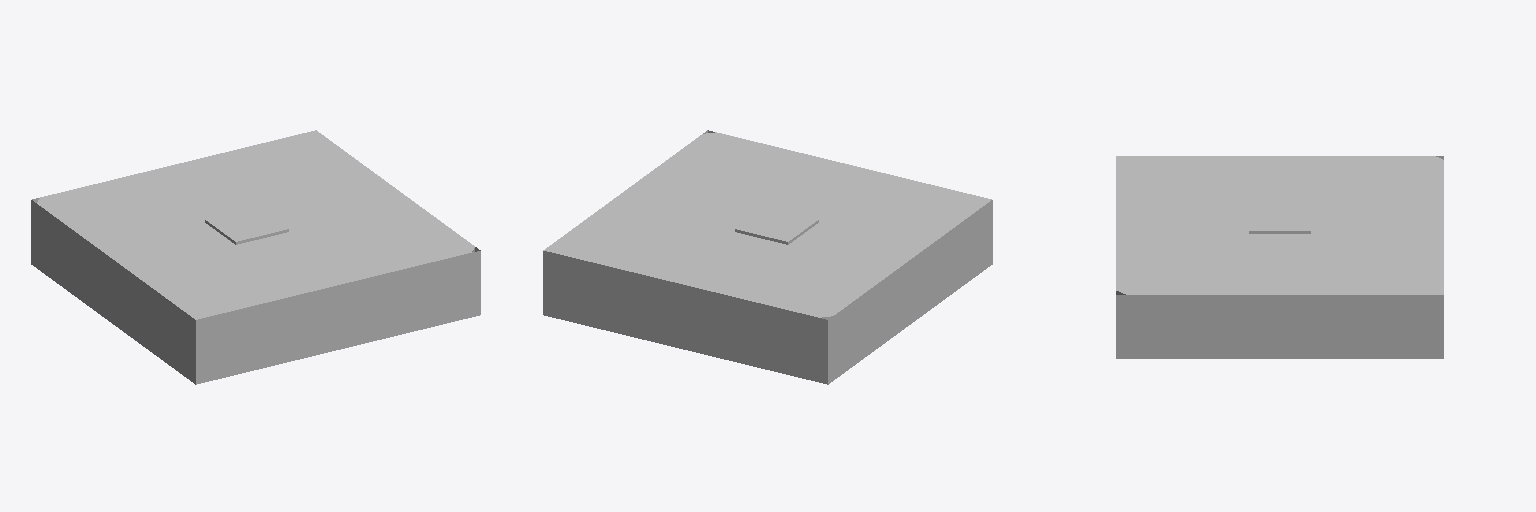
Rendered from ground.obj.
The picture shows the model from 3 angles: view 1: azimuth 30°, elevation 25°; view 2: azimuth 150°, elevation 25°; view 3: azimuth 270°, elevation 25°; orthographic projection.
Visible parts, largest first — view 1: Mesh_Mesh_Plane.001; view 2: Mesh_Mesh_Plane.001; view 3: Mesh_Mesh_Plane.001.
Boxes of the visible parts, <box> form: Mesh_Mesh_Plane.001: <box>31,130,480,384</box>; Mesh_Mesh_Plane.001: <box>543,130,992,384</box>; Mesh_Mesh_Plane.001: <box>1116,156,1443,358</box>.
Size of the model in its own units: 200 by 45.48 by 200.